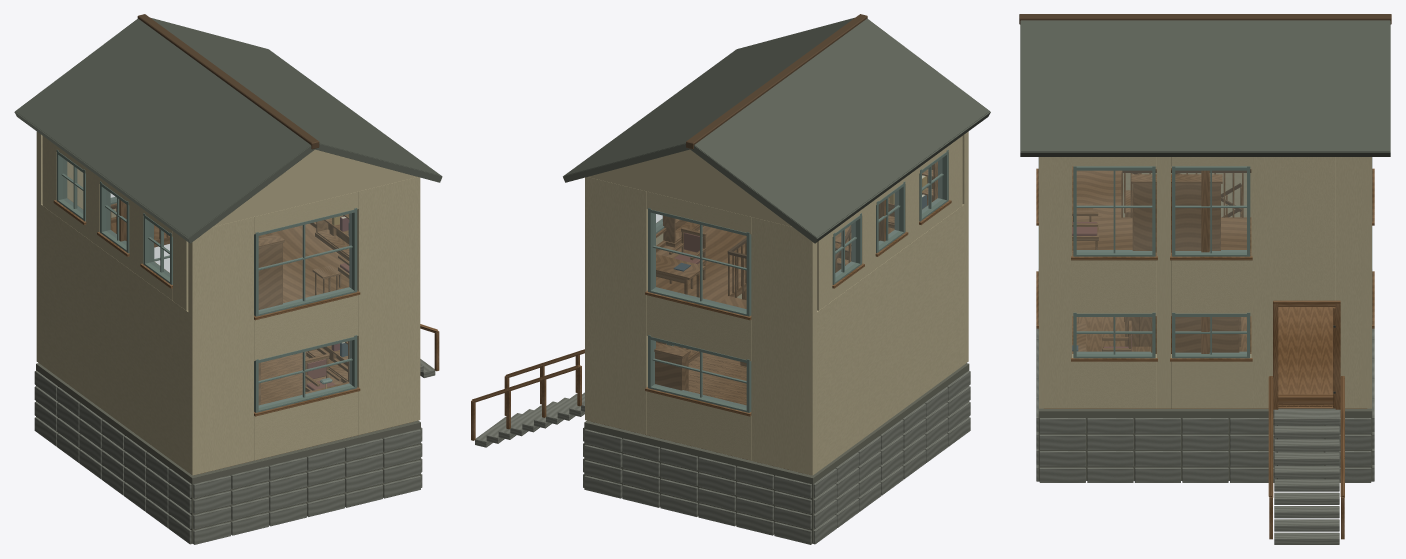
Rendered from library-compact.glb.
3 views of the same model, side by side, from view 1: azimuth 30°, elevation 25°; view 2: azimuth 150°, elevation 25°; view 3: azimuth 270°, elevation 25° (orthographic). The views are drawn at different scales.
Parts seen in each view (by area): view 1: library_static_Library_warm_limewash, library_static_Library_weathered_cedar_shingles, library_static_Library_fieldstone, library_static_Library_window_glass, library_static_Library_rubbed_oak_and_joinery, library_static_Library_muted_green_window_joinery, library_static_Library_recessed_lime_mortar, library_static_Library_oiled_stair_handrail, ground_reading_chair_visual; view 2: library_static_Library_warm_limewash, library_static_Library_weathered_cedar_shingles, library_static_Library_fieldstone, library_static_Library_rubbed_oak_and_joinery, library_static_Library_window_glass, library_static_Library_muted_green_window_joinery, library_static_Library_recessed_lime_mortar, library_static_Library_oiled_stair_handrail, upper_desk_chair_visual; view 3: library_static_Library_warm_limewash, library_static_Library_weathered_cedar_shingles, library_static_Library_rubbed_oak_and_joinery, library_static_Library_fieldstone, library_static_Library_window_glass, library_static_Library_muted_green_window_joinery, library_static_Library_recessed_lime_mortar, library_static_Library_oiled_stair_handrail, upper_window_chair_visual.
Boxes of the visible parts, bbox=[...] form: library_static_Library_warm_limewash: bbox=[36, 131, 420, 475]; library_static_Library_weathered_cedar_shingles: bbox=[14, 17, 442, 243]; library_static_Library_fieldstone: bbox=[34, 359, 435, 544]; library_static_Library_window_glass: bbox=[63, 159, 351, 407]; library_static_Library_rubbed_oak_and_joinery: bbox=[53, 198, 439, 473]; library_static_Library_muted_green_window_joinery: bbox=[56, 150, 357, 412]; library_static_Library_recessed_lime_mortar: bbox=[36, 363, 420, 543]; library_static_Library_oiled_stair_handrail: bbox=[110, 14, 319, 238]; ground_reading_chair_visual: bbox=[305, 354, 341, 392]; library_static_Library_warm_limewash: bbox=[585, 131, 968, 475]; library_static_Library_weathered_cedar_shingles: bbox=[563, 17, 990, 243]; library_static_Library_fieldstone: bbox=[475, 370, 970, 544]; library_static_Library_rubbed_oak_and_joinery: bbox=[471, 161, 951, 473]; library_static_Library_window_glass: bbox=[653, 159, 941, 407]; library_static_Library_muted_green_window_joinery: bbox=[648, 149, 948, 412]; library_static_Library_recessed_lime_mortar: bbox=[584, 363, 969, 543]; library_static_Library_oiled_stair_handrail: bbox=[686, 14, 867, 265]; upper_desk_chair_visual: bbox=[669, 227, 706, 288]; library_static_Library_warm_limewash: bbox=[1039, 157, 1371, 408]; library_static_Library_weathered_cedar_shingles: bbox=[1020, 20, 1390, 156]; library_static_Library_rubbed_oak_and_joinery: bbox=[1036, 166, 1374, 539]; library_static_Library_fieldstone: bbox=[1036, 328, 1374, 544]; library_static_Library_window_glass: bbox=[1077, 171, 1246, 353]; library_static_Library_muted_green_window_joinery: bbox=[1038, 157, 1372, 358]; library_static_Library_recessed_lime_mortar: bbox=[1038, 329, 1372, 480]; library_static_Library_oiled_stair_handrail: bbox=[1019, 14, 1391, 217]; upper_window_chair_visual: bbox=[1072, 212, 1098, 249].
Size of the model in its own units: 8.72 by 8.63 by 7.16.
Materials: 18 (4 with a texture image).
